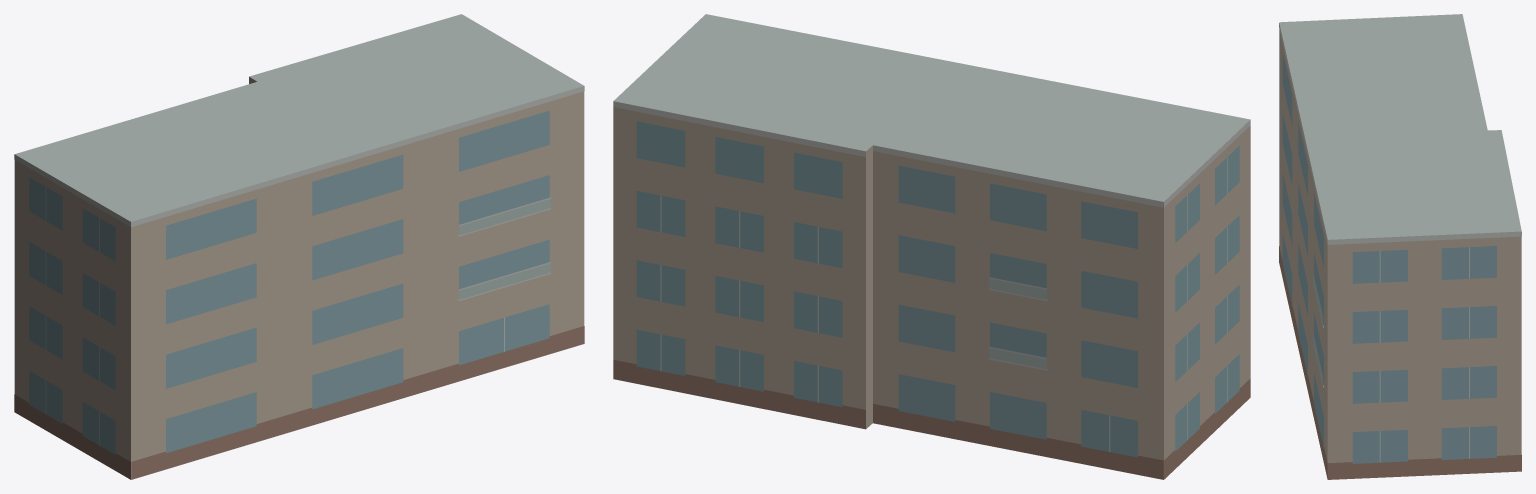
The model's file is survey-upis-32653393.glb.
The picture shows the model from 3 angles, left to right: view 1: azimuth 30°, elevation 25°; view 2: azimuth 150°, elevation 25°; view 3: azimuth 270°, elevation 25°; orthographic projection. The views are drawn at different scales.
Visible parts, largest first — view 1: survey-upis-32653393.tmp; view 2: survey-upis-32653393.tmp; view 3: survey-upis-32653393.tmp.
Part boxes in pixels (x1,y1,x2,y2): survey-upis-32653393.tmp: (14,14,584,479); survey-upis-32653393.tmp: (613,14,1250,479); survey-upis-32653393.tmp: (1279,14,1521,479).
Size of the model in its own units: 23.63 by 11.7 by 10.73.
